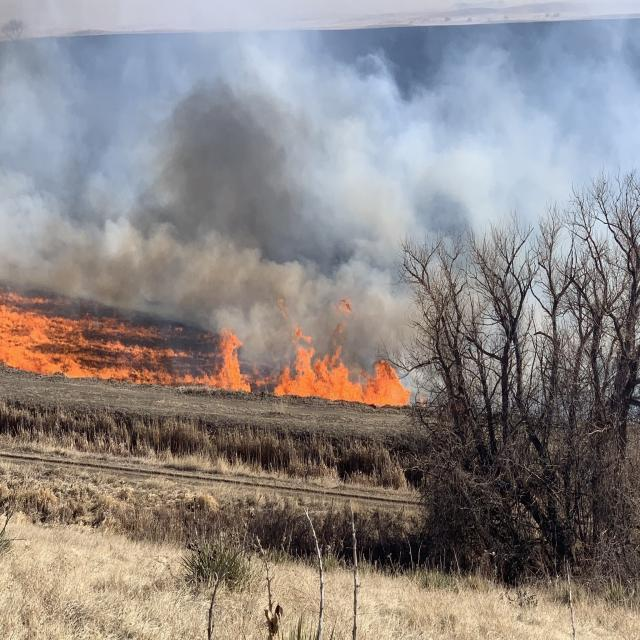Fire: (198, 330, 438, 418), (0, 294, 94, 391)
Smoke: (0, 0, 626, 358)
